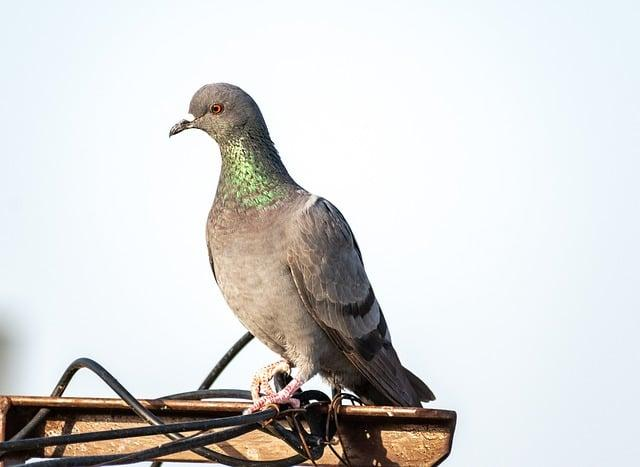Flying Rat: (162, 81, 422, 405)
